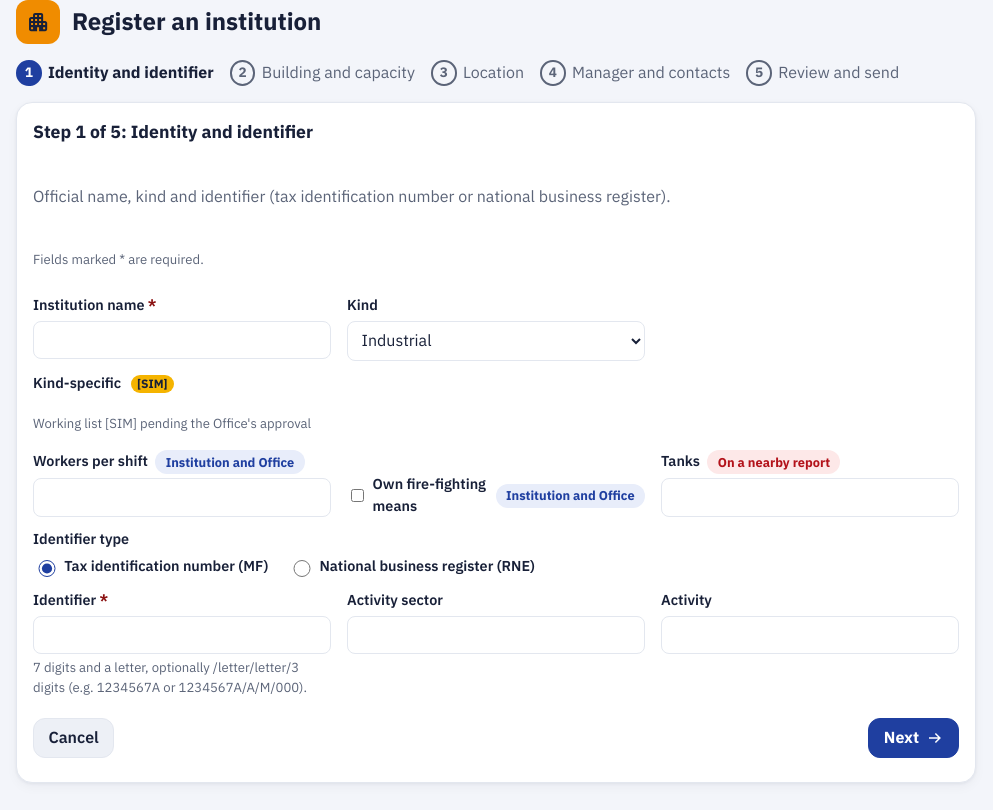
RegisterOrgPage (FR-B-001) › validates each step on the client before moving on
expect the heading "Step 1 of 5: Identity and identifier" is shown: met, box [33,119,313,145]
Type "X" into the field labelled "Institution name *".
click(182, 340); type("X")  # box [33,320,331,359]
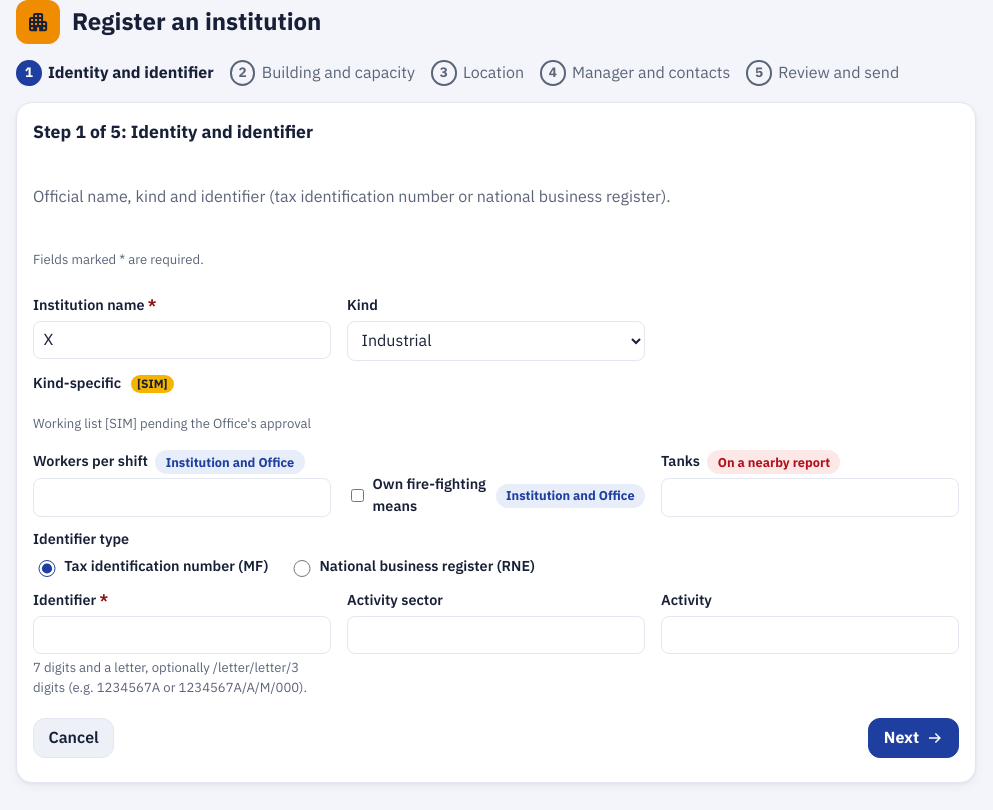
Type "12345A" into the field labelled "Identifier *".
click(182, 635); type("12345A")  # box [33,616,331,654]
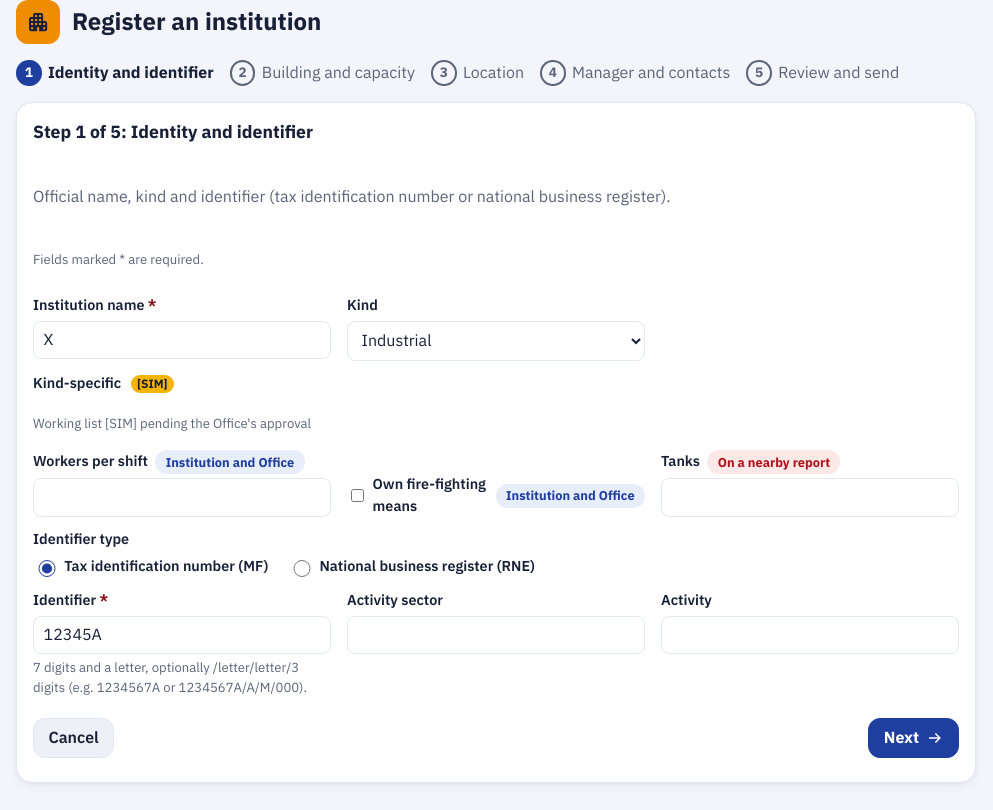
Click the button "Next".
click(914, 738)  # box [868,718,959,758]
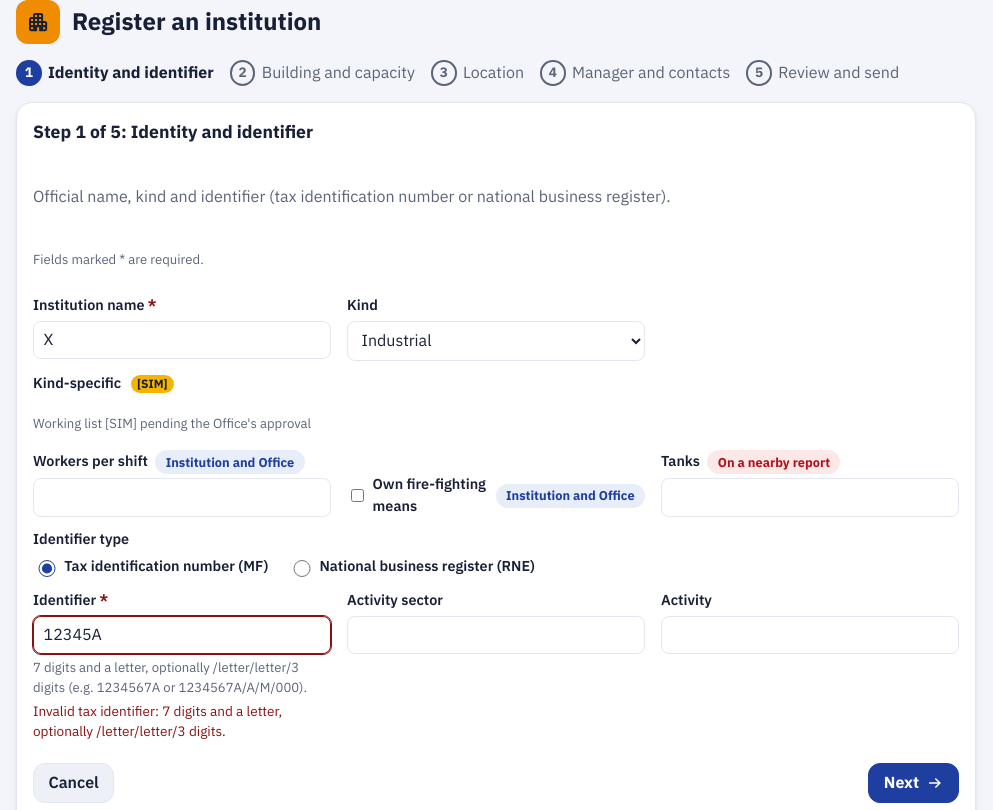
expect the heading "Step 1 of 5: Identity and identifier" is shown: met, box [33,119,313,145]
expect the text "Invalid tax identifier" is shown: met, box [33,701,282,742]
Click the radio button labelled "National business register (RNE)".
click(302, 569)  # box [293,560,311,577]
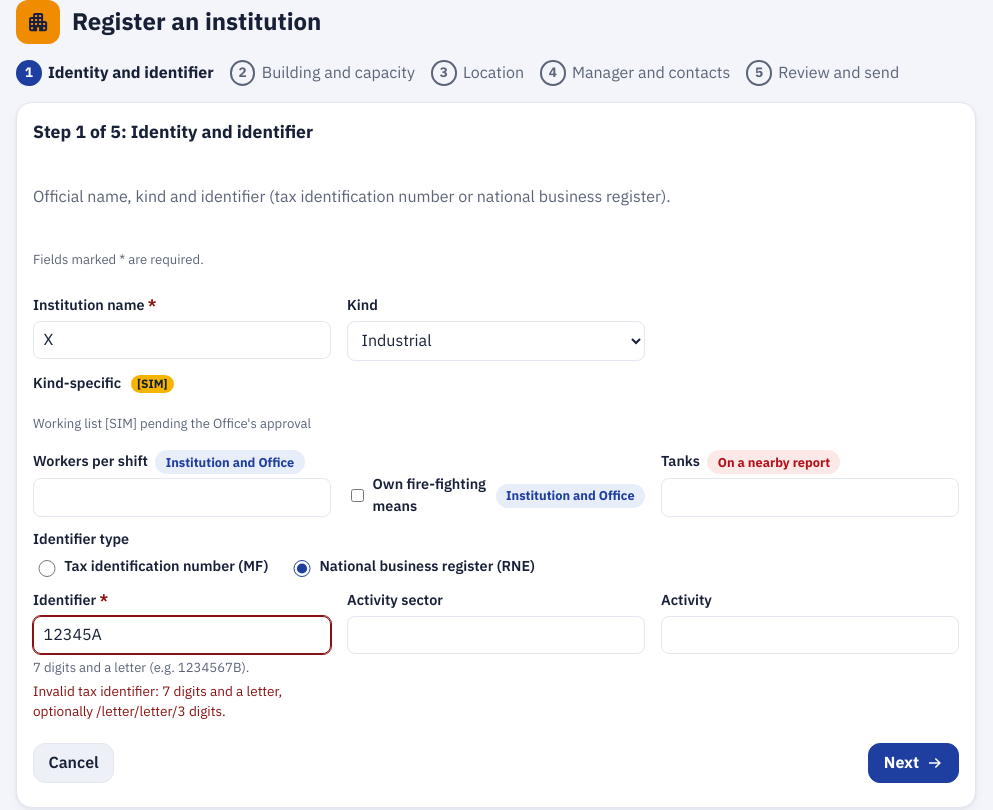
Replace the text in the field labelled "Identifier *" with "1234567A/A/M/000" at {"x": 182, "y": 635}, box [33,616,331,654]
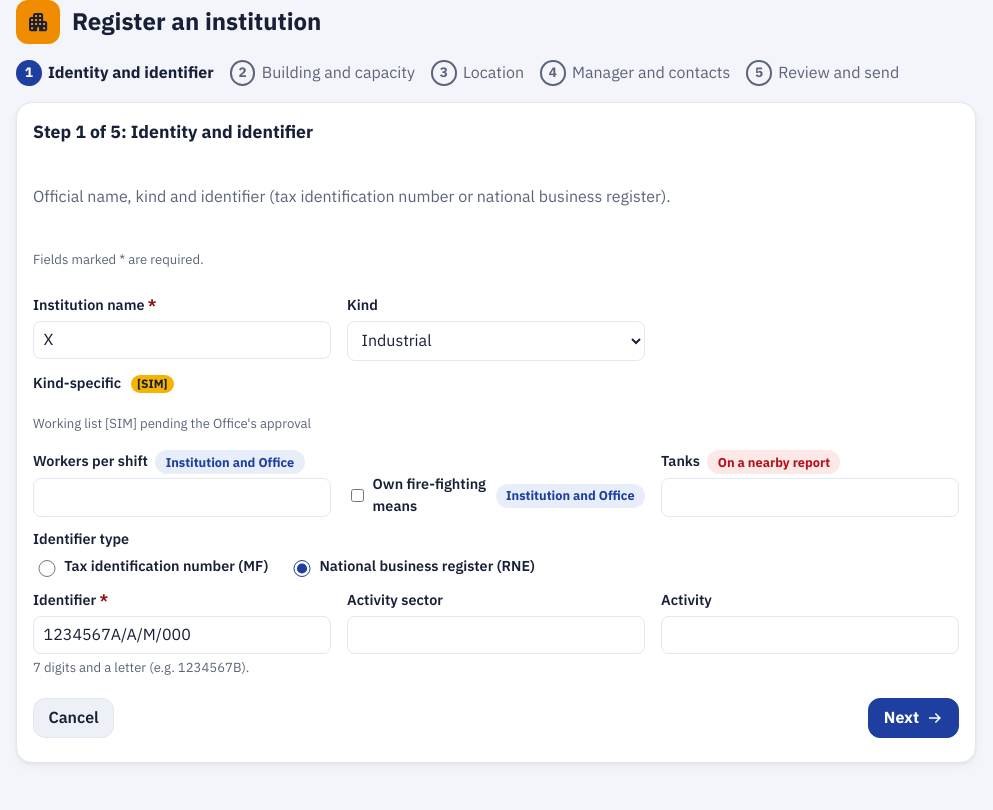
Click the button "Next".
click(914, 718)  # box [868,698,959,738]
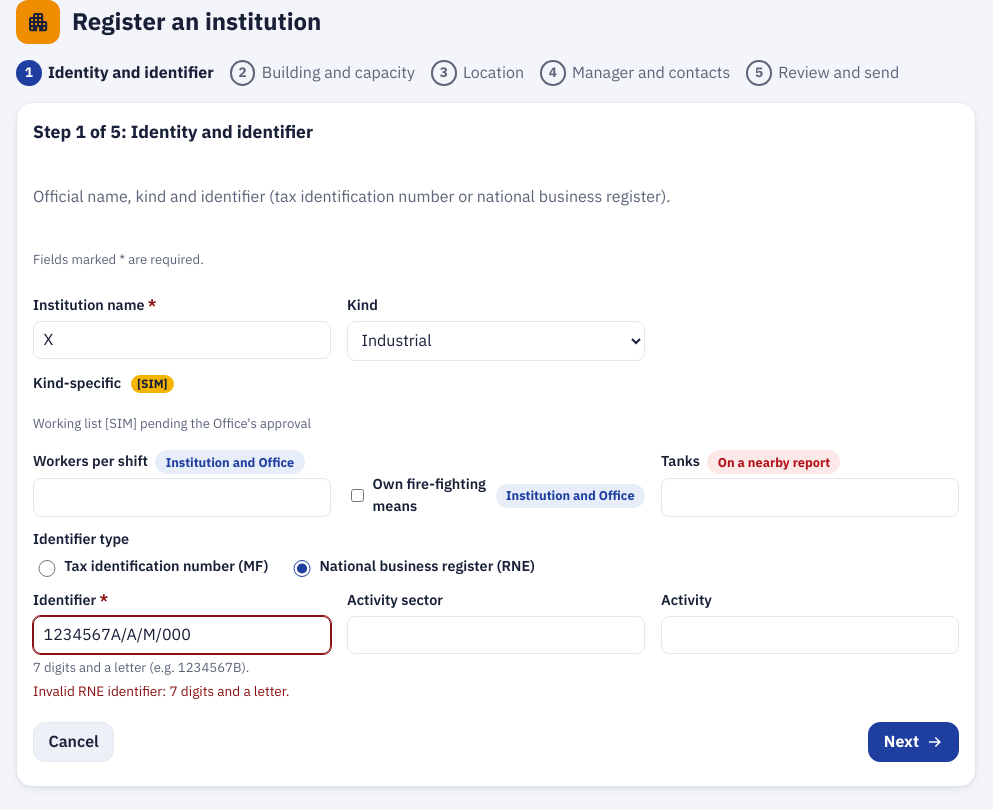
expect the text "Invalid RNE identifier: 7 digits and a letter." is shown: met, box [33,682,331,702]
